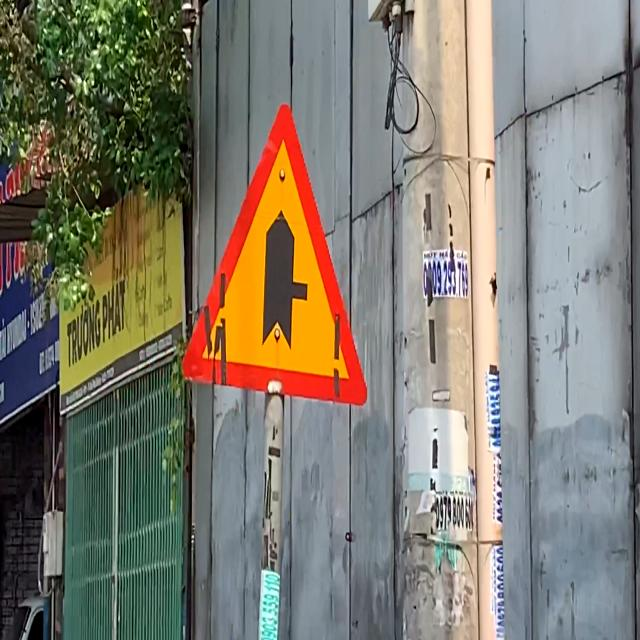W.207b: (168, 85, 377, 423)
